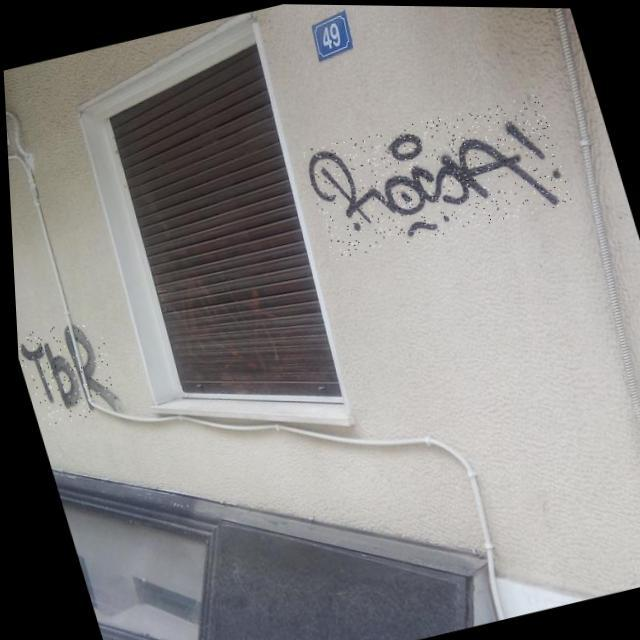-: (296, 88, 574, 262), (12, 314, 120, 428)
